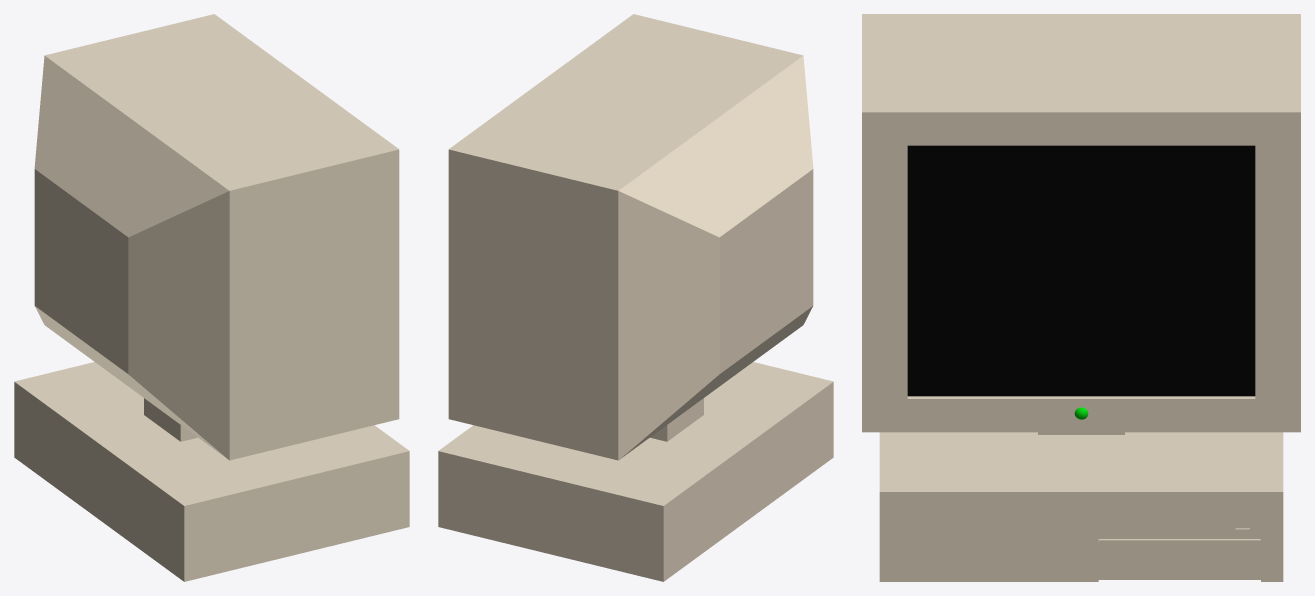
The model's file is Puter.fbx.
The picture shows the model from 3 angles, left to right: view 1: azimuth 30°, elevation 25°; view 2: azimuth 150°, elevation 25°; view 3: azimuth 270°, elevation 25°; orthographic projection. The views are drawn at different scales.
Parts seen in each view (by area): view 1: Cube.024; view 2: Cube.024; view 3: Cube.024.
Part boxes in pixels (box(x1,y1,x2,y2)): Cube.024: box(14, 14, 409, 581); Cube.024: box(438, 14, 833, 581); Cube.024: box(862, 14, 1300, 581).
Size of the model in its own units: 93.07 by 142 by 123.
